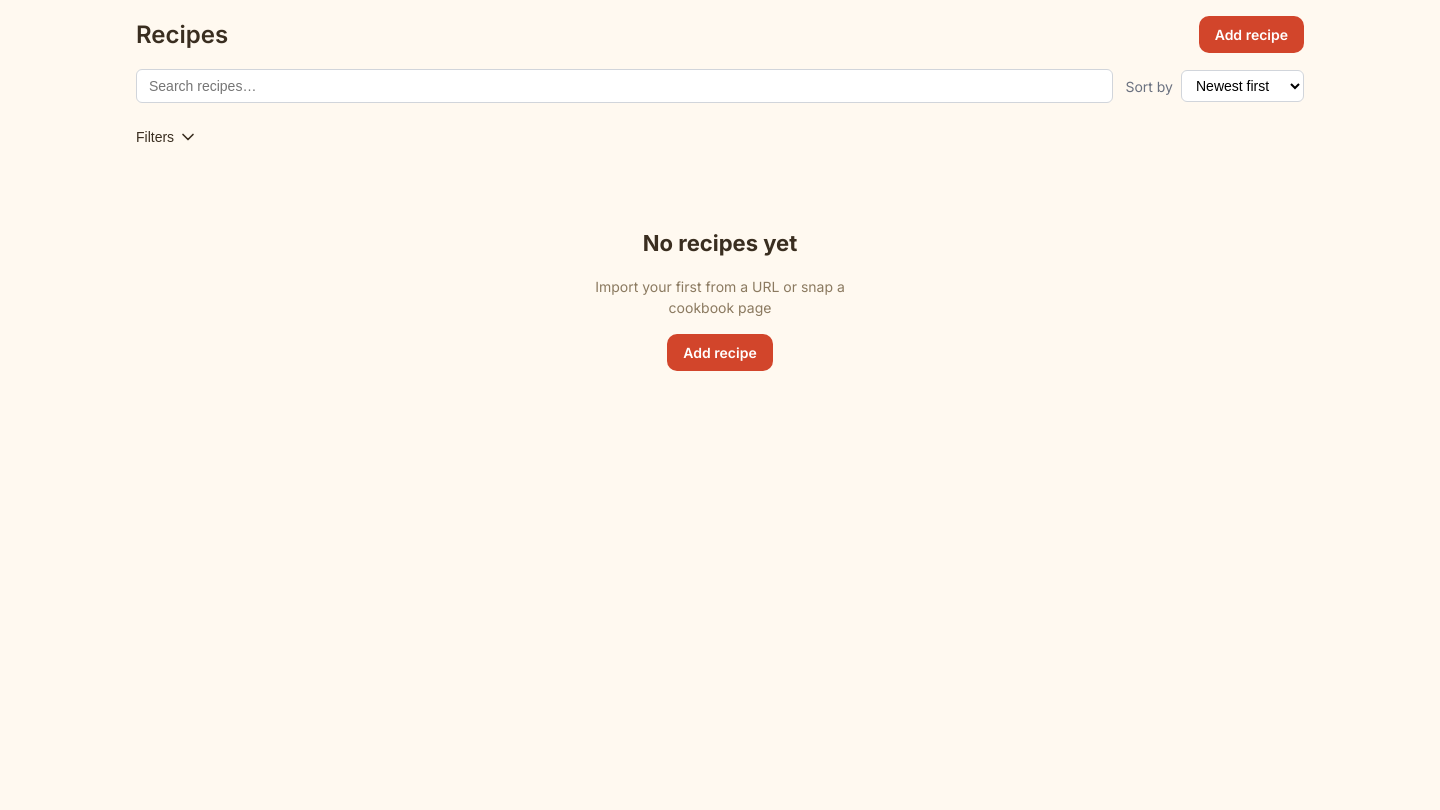
Scenario: RecipeListView › closes the AddRecipeSheet on the close event
What coordinates should you click on to do the following:
click the button with test id "add-recipe-btn"
I would click on:
 (1251, 34)
Its box is 1199,16 -> 1304,53.
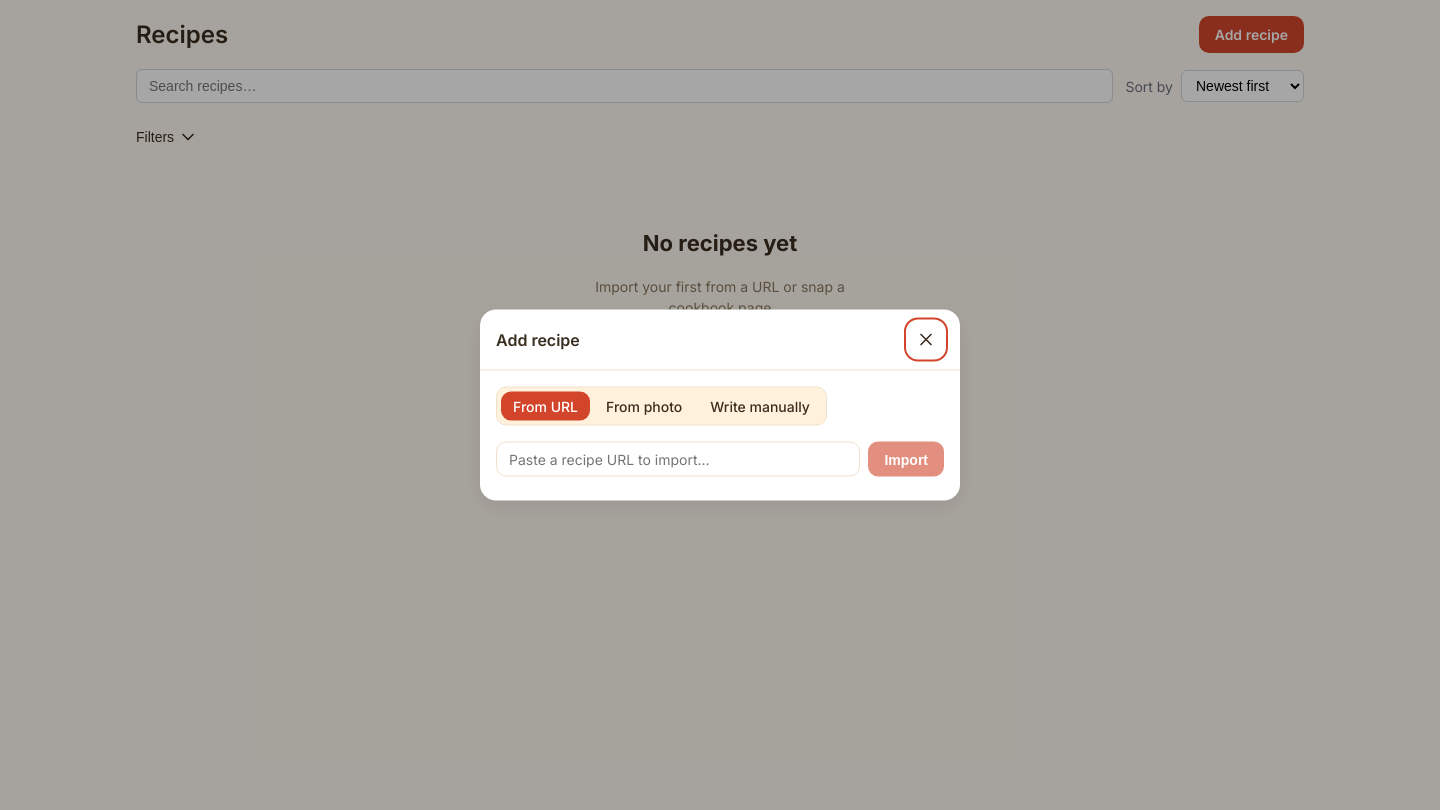
Expected: the dialog with test id "add-recipe-sheet" is shown, 480,310 -> 960,500
What coordinates should you click on to do the following:
click the button with test id "sheet-close"
I would click on:
 (926, 340)
Its box is 908,322 -> 944,358.
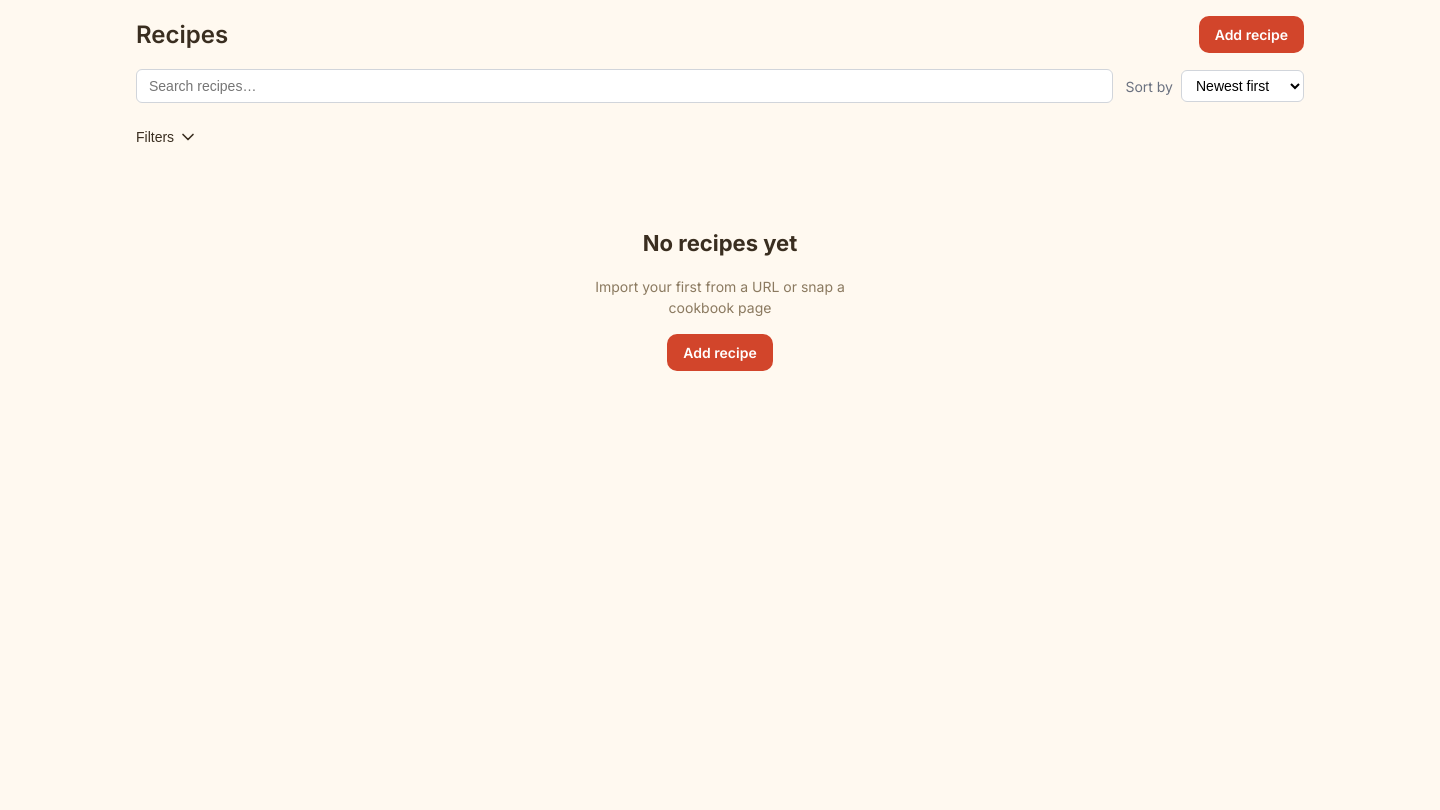
Expected: the dialog with test id "add-recipe-sheet" is gone
